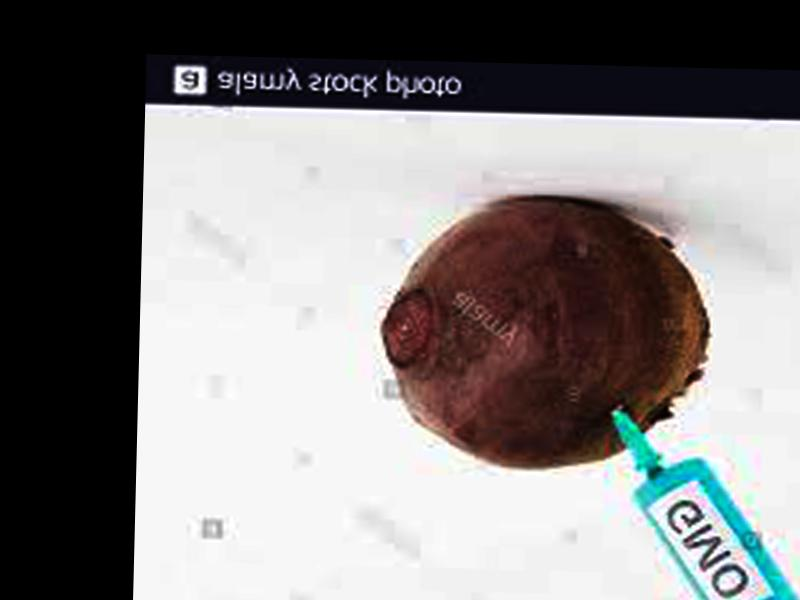Beet: (380, 191, 706, 474)
